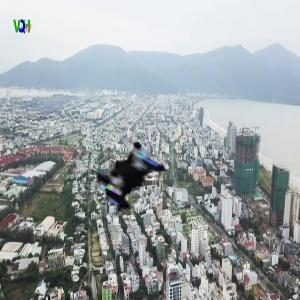drone: (87, 124, 211, 248)
